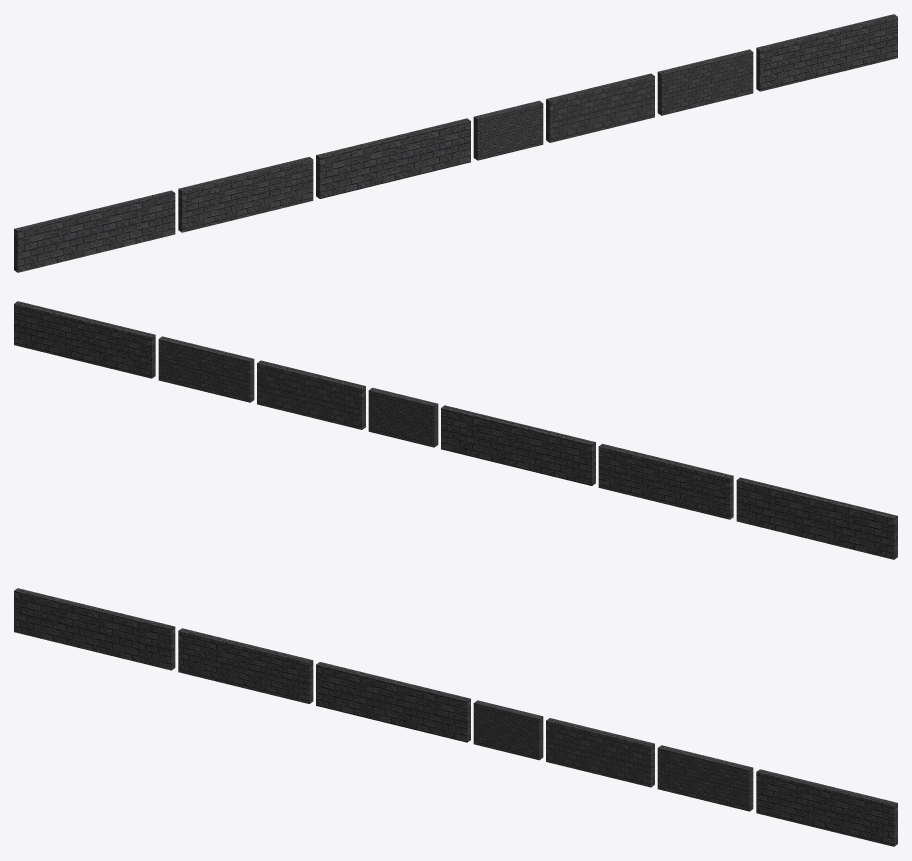
The model's file is Dungeon Wall.fbx.
The picture shows the model from 3 angles, top to bottom: view 1: azimuth 30°, elevation 25°; view 2: azimuth 150°, elevation 25°; view 3: azimuth 330°, elevation 25°; orthographic projection.
Parts seen in each view (by area): view 1: Cube.028, Cube.050, Cube.019, Cube.052, Cube, Cube.126, Cube.006; view 2: Cube.028, Cube.050, Cube.019, Cube.052, Cube, Cube.126, Cube.006; view 3: Cube.028, Cube.050, Cube.019, Cube.052, Cube, Cube.126, Cube.006.
Boxes of the visible parts, <box> form: Cube.028: <box>14,190,175,272</box>; Cube.050: <box>316,118,470,198</box>; Cube.019: <box>756,14,897,91</box>; Cube.052: <box>178,157,313,232</box>; Cube: <box>546,73,654,142</box>; Cube.126: <box>657,49,753,115</box>; Cube.006: <box>473,100,543,160</box>; Cube.028: <box>736,477,897,559</box>; Cube.050: <box>441,405,595,485</box>; Cube.019: <box>14,301,155,378</box>; Cube.052: <box>598,444,733,519</box>; Cube: <box>257,360,365,429</box>; Cube.126: <box>158,336,254,402</box>; Cube.006: <box>368,387,438,447</box>; Cube.028: <box>14,588,175,670</box>; Cube.050: <box>316,662,470,742</box>; Cube.019: <box>756,769,897,846</box>; Cube.052: <box>178,628,313,703</box>; Cube: <box>546,718,654,787</box>; Cube.126: <box>657,745,753,811</box>; Cube.006: <box>473,700,543,760</box>.
Size of the model in its own units: 13400 by 600 by 100.
